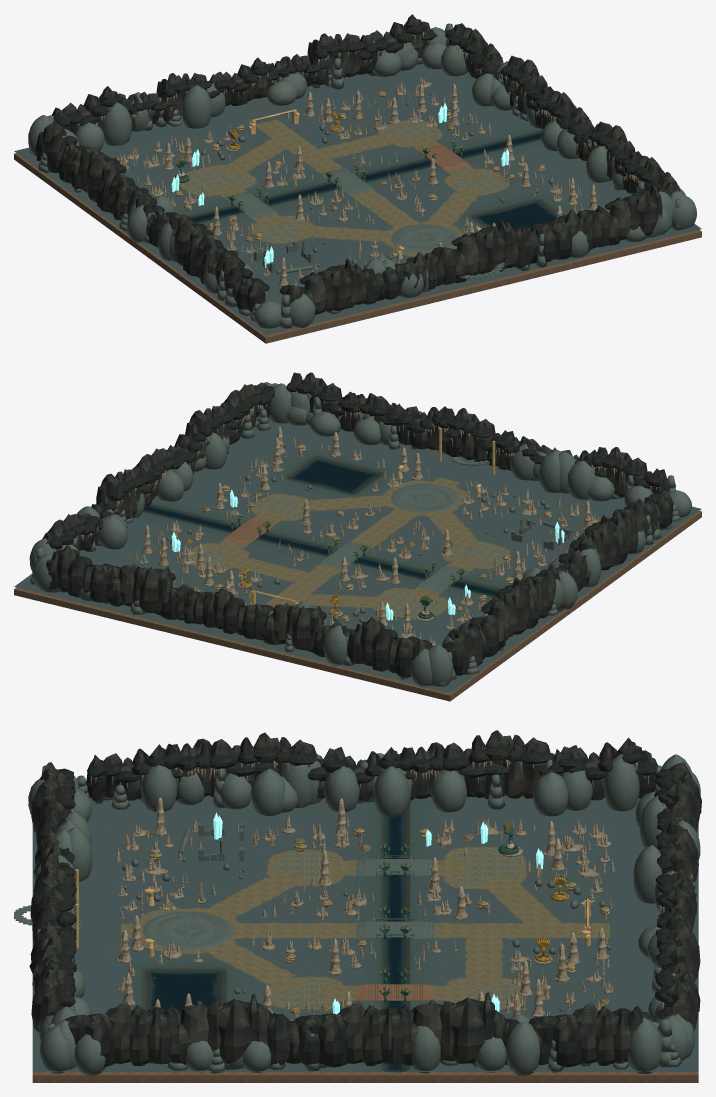
The model's file is naga-cave.glb.
The picture shows the model from 3 angles, top to bottom: view 1: azimuth 30°, elevation 25°; view 2: azimuth 150°, elevation 25°; view 3: azimuth 270°, elevation 25°; orthographic projection. The views are drawn at different scales.
Visible parts, largest first — view 1: Ground - varied meadow | ground_naga_cave, Open cave boundary | stone, Tracks - worn earth | path, Soil foundation | earth, Water surface | water, Courtyard paving | paving_cave, Perimeter weathered rock strata | stone, v8 cave wall 162 | v8_cave.005, Feathered road shoulders | path_edge, v8 cave wall 162 | v8_cave.006, v8 cave wall 162 | v8_cave.004, v8 cave wall 162 | v8_cave.001 (+27 smaller); view 2: Ground - varied meadow | ground_naga_cave, Open cave boundary | stone, Tracks - worn earth | path, Soil foundation | earth, Water surface | water, v8 cave wall 160 | v8_cave, Perimeter weathered rock strata | stone, Courtyard paving | paving_cave, Feathered road shoulders | path_edge, v8 cave wall 162 | v8_cave.001, v8 cave wall 162 | v8_cave, v8 cave wall 160 | v8_cave.002 (+26 smaller); view 3: Ground - varied meadow | ground_naga_cave, Open cave boundary | stone, Tracks - worn earth | path, Soil foundation | earth, Water surface | water, v8 cave wall 161 | v8_cave.004, Courtyard paving | paving_cave, v8 cave wall 162 | v8_cave.003, v8 cave wall 161 | v8_cave.003, v8 cave wall 162 | v8_cave.002, v8 cave wall 161 | v8_cave.002, Feathered road shoulders | path_edge (+28 smaller).
Part boxes in pixels (x1,y1,x2,y2): Ground - varied meadow | ground_naga_cave: (14,64,701,335); Open cave boundary | stone: (28,27,696,328); Tracks - worn earth | path: (181,120,506,255); Soil foundation | earth: (14,153,701,343); Water surface | water: (190,132,556,228); Courtyard paving | paving_cave: (183,122,504,254); Perimeter weathered rock strata | stone: (28,23,682,328); v8 cave wall 162 | v8_cave.005: (431,219,509,284); Feathered road shoulders | path_edge: (179,119,509,256); v8 cave wall 162 | v8_cave.006: (595,184,662,247); v8 cave wall 162 | v8_cave.004: (279,258,356,316); v8 cave wall 162 | v8_cave.001: (307,32,382,81); Ground - varied meadow | ground_naga_cave: (14,419,701,692); Open cave boundary | stone: (29,382,691,687); Tracks - worn earth | path: (190,478,508,618); Soil foundation | earth: (14,511,701,701); Water surface | water: (143,459,561,611); v8 cave wall 160 | v8_cave: (348,616,432,677); Perimeter weathered rock strata | stone: (30,383,680,686); Courtyard paving | paving_cave: (190,482,506,617); Feathered road shoulders | path_edge: (183,477,511,619); v8 cave wall 162 | v8_cave.001: (101,563,175,613); v8 cave wall 162 | v8_cave: (253,602,326,650); v8 cave wall 160 | v8_cave.002: (46,545,120,602); Ground - varied meadow | ground_naga_cave: (32,795,698,1071); Open cave boundary | stone: (28,753,700,1075); Tracks - worn earth | path: (121,848,609,1008); Soil foundation | earth: (32,962,698,1082); Water surface | water: (149,812,404,1072); v8 cave wall 161 | v8_cave.004: (528,1001,650,1067); Courtyard paving | paving_cave: (148,850,519,1006); v8 cave wall 162 | v8_cave.003: (384,992,494,1065); v8 cave wall 161 | v8_cave.003: (293,999,413,1067); v8 cave wall 162 | v8_cave.002: (153,993,259,1064); v8 cave wall 161 | v8_cave.002: (64,1000,181,1066); Feathered road shoulders | path_edge: (121,846,609,1009).
Size of the model in its own units: 185 by 24.63 by 186.
21 materials, 19 textured.
